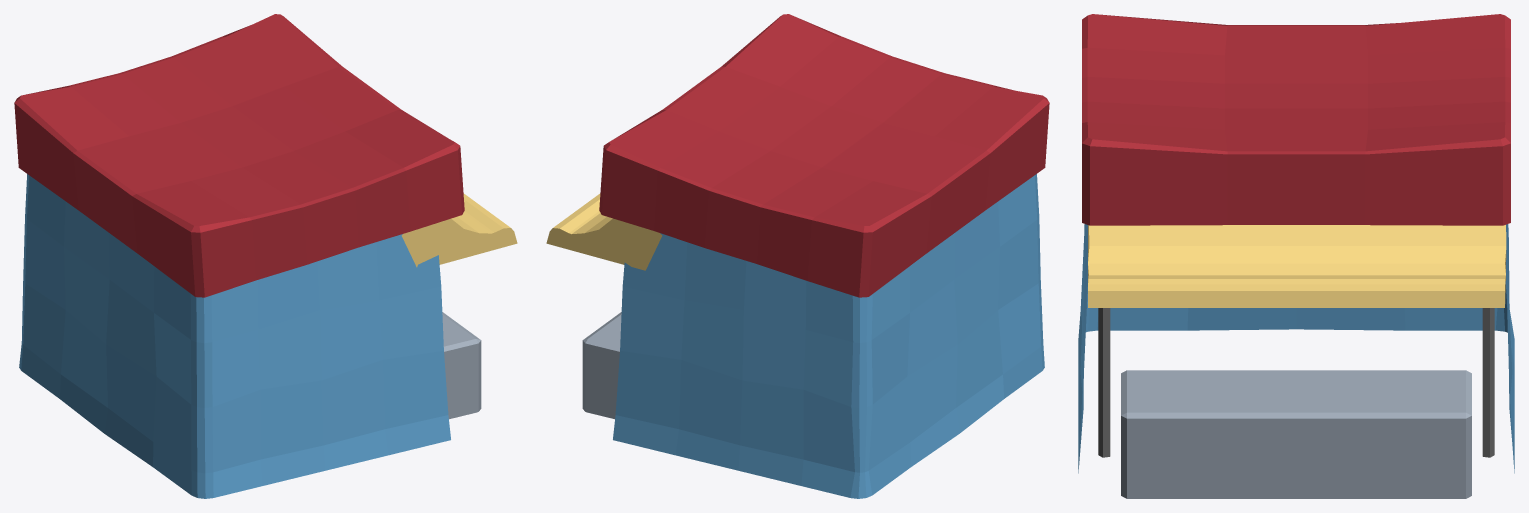
Rendered from rowyatai2.fbx.
The picture shows the model from 3 angles, left to right: view 1: azimuth 30°, elevation 25°; view 2: azimuth 150°, elevation 25°; view 3: azimuth 270°, elevation 25°; orthographic projection. The views are drawn at different scales.
Visible parts, largest first — view 1: 立方体, Cube, 立方体.001; view 2: 立方体, Cube, 立方体.001; view 3: Cube, 立方体.001, 立方体, 円柱.
Part boxes in pixels (x1,y1,x2,y2): 立方体: (19, 174, 450, 498); Cube: (14, 14, 517, 297); 立方体.001: (442, 312, 481, 419); 立方体: (613, 174, 1044, 498); Cube: (546, 14, 1049, 297); 立方体.001: (582, 312, 621, 419); Cube: (1082, 14, 1510, 307); 立方体.001: (1121, 370, 1471, 498); 立方体: (1078, 224, 1514, 473); 円柱: (1098, 308, 1494, 457).
Bounding box in the file's own units: 133 × 114 × 132.
